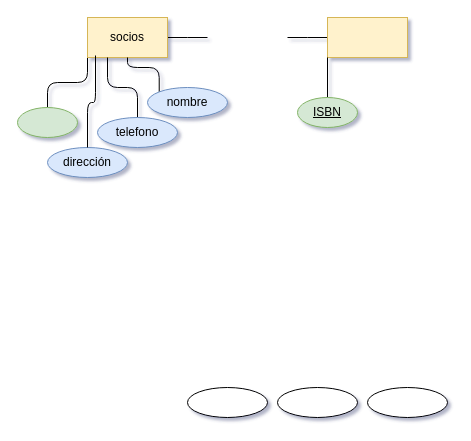
The diagram is 471 pixels wide and 441 high, and some of its shapes have lost their labels. The shapes that lost their labels are listed below. From the top down, each one's box as (x1, y1, x2, y2) in pixels, then its label:
(326, 16, 408, 58): libros
(16, 106, 78, 138): DNI
